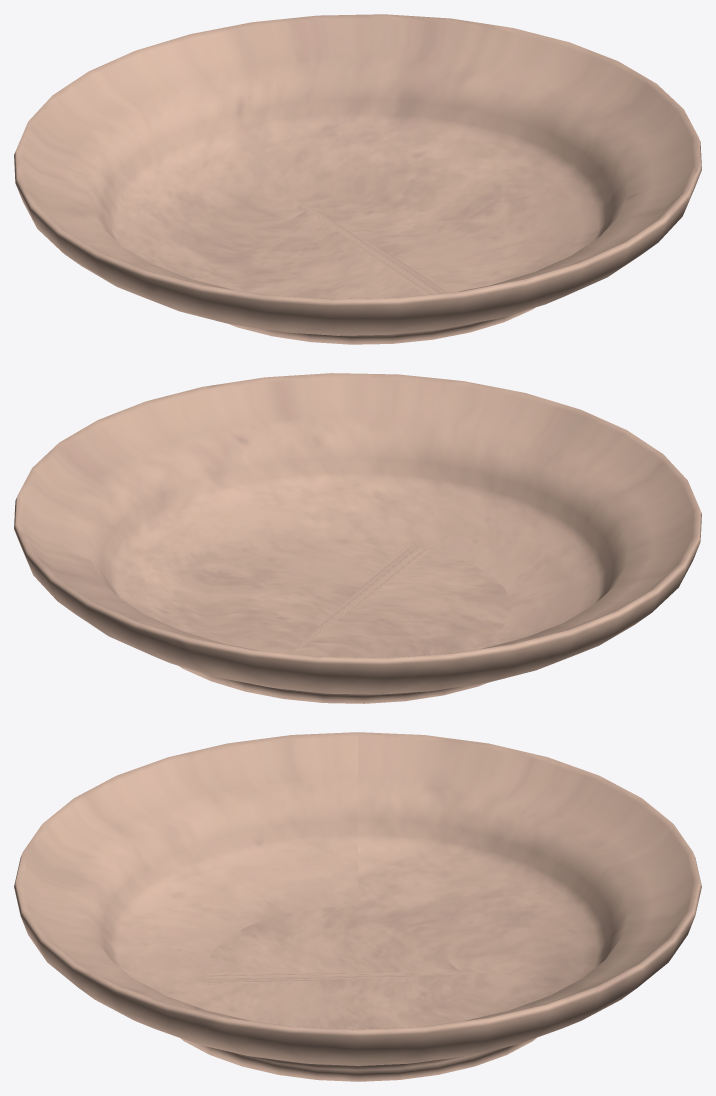
Rendered from m_bol_2.fbx.
The picture shows the model from 3 angles, top to bottom: view 1: azimuth 30°, elevation 25°; view 2: azimuth 150°, elevation 25°; view 3: azimuth 270°, elevation 25°; orthographic projection.
Visible parts, largest first — view 1: Bol.002; view 2: Bol.002; view 3: Bol.002.
Boxes of the visible parts, x1,y1,x2,y2 form: Bol.002: [14, 14, 701, 344]; Bol.002: [14, 373, 701, 703]; Bol.002: [14, 732, 701, 1081].
Size of the model in its own units: 14.57 by 2.38 by 14.15.
